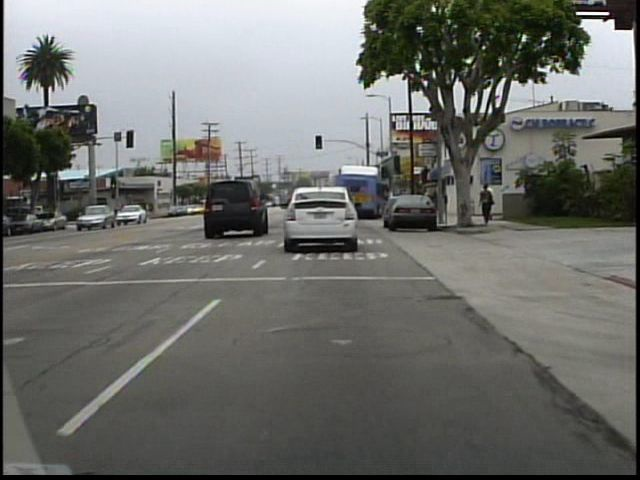person: (476, 182, 494, 226), (484, 182, 496, 224)
